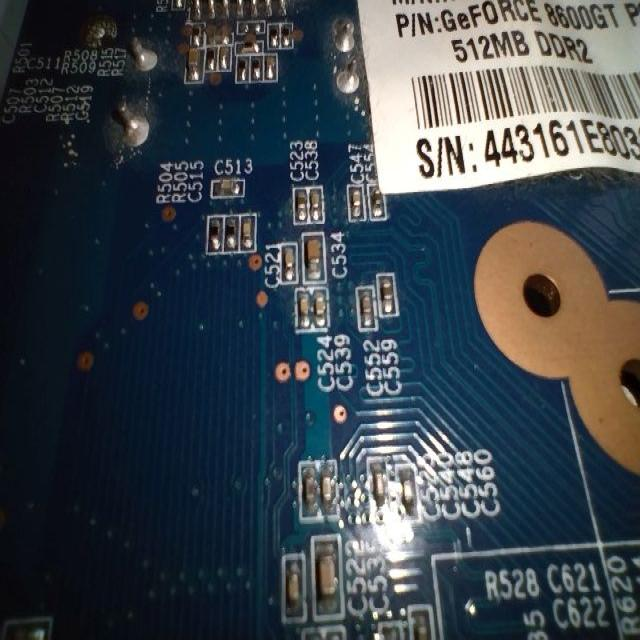capacitor: (306, 527, 351, 622), (348, 282, 381, 339), (279, 237, 301, 290), (292, 286, 314, 333), (302, 230, 322, 274)
resistor: (202, 210, 226, 254), (230, 52, 250, 89)
